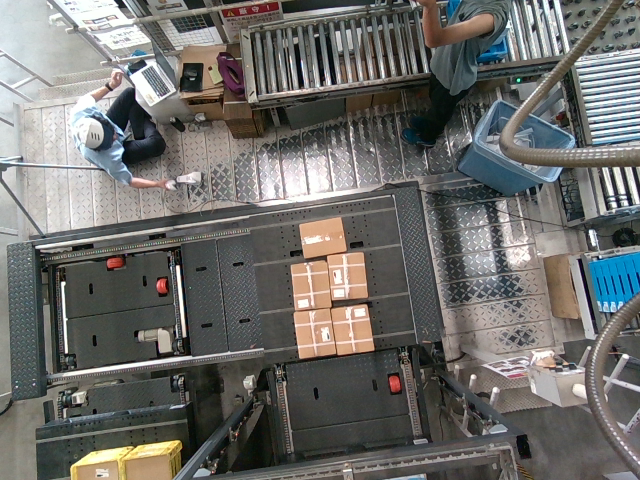box: (327, 253, 366, 301), (291, 261, 330, 309), (293, 309, 332, 357), (332, 301, 371, 349), (297, 219, 343, 258)
